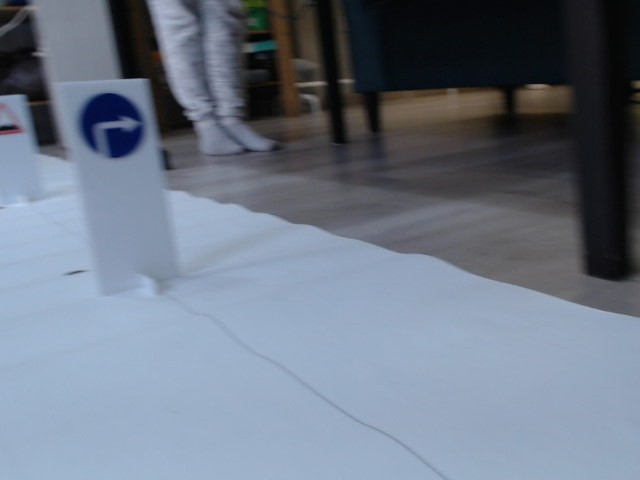Right: (78, 91, 144, 159)
